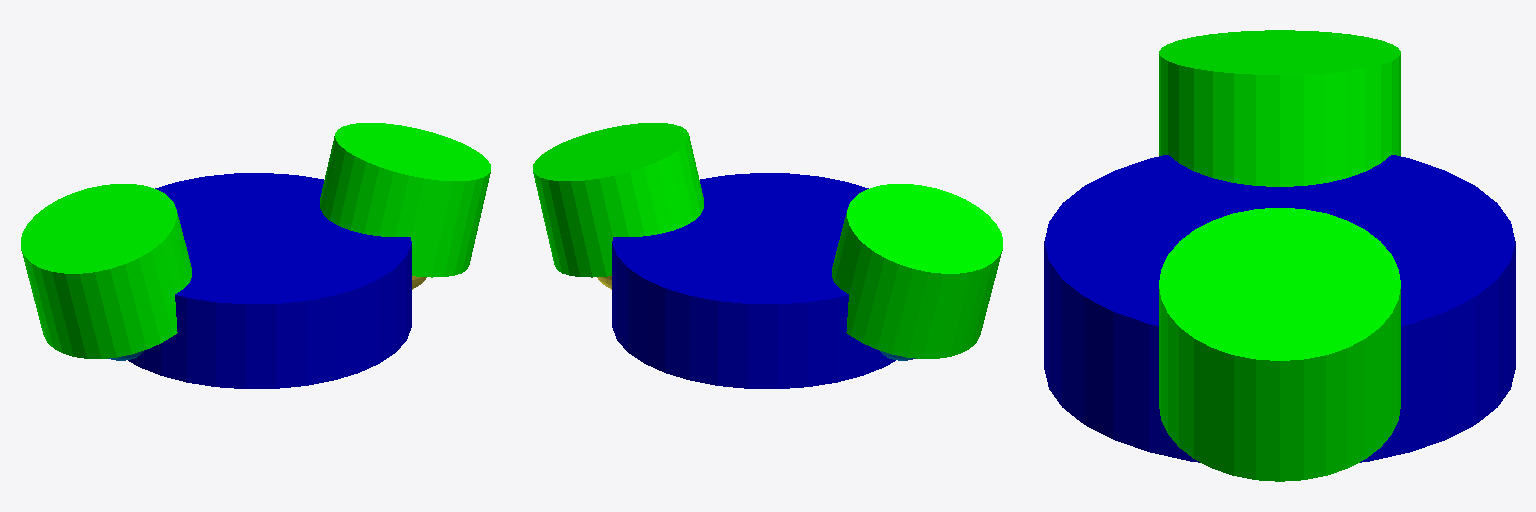
URDF robot description (gripper_2f_1j):
<?xml version='1.0' encoding='UTF-8'?>
<robot name="gripper_2f_1j">
  <link name="palm">
    <inertial>
      <origin xyz="0.0 0.0 0.0" rpy="0.0 -0.0 0.0"/>
      <mass value="1.0"/>
      <inertia ixx="1.0" ixy="0.0" ixz="0.0" iyy="1.0" iyz="0.0" izz="1.0"/>
    </inertial>
    <visual>
      <geometry>
        <cylinder radius="0.05" length="0.03"/>
      </geometry>
      <material name="blue"/>
      <origin xyz="0.0 0.0 0.0" rpy="0.0 -0.0 0.0"/>
    </visual>
    <collision>
      <geometry>
        <cylinder radius="0.05" length="0.03"/>
      </geometry>
      <origin xyz="0.0 0.0 0.0" rpy="0.0 0.0 0.0"/>
    </collision>
  </link>
  <link name="f11">
    <inertial>
      <origin xyz="0.0 0.0 0.0" rpy="0.0 -0.0 0.0"/>
      <mass value="1.0"/>
      <inertia ixx="1.0" ixy="0.0" ixz="0.0" iyy="1.0" iyz="0.0" izz="1.0"/>
    </inertial>
    <visual>
      <geometry>
        <cylinder radius="0.025724522488754467" length="0.03310900714851261"/>
      </geometry>
      <material name="green"/>
      <origin xyz="0.0 0.0 0.016554503574256304" rpy="0.0 -0.0 0.0"/>
    </visual>
    <collision>
      <geometry>
        <cylinder radius="0.025724522488754467" length="0.03310900714851261"/>
      </geometry>
      <origin xyz="0.0 0.0 0.05" rpy="0.0 0.0 0.0"/>
    </collision>
  </link>
  <link name="f21">
    <inertial>
      <origin xyz="0.0 0.0 0.0" rpy="0.0 -0.0 0.0"/>
      <mass value="1.0"/>
      <inertia ixx="1.0" ixy="0.0" ixz="0.0" iyy="1.0" iyz="0.0" izz="1.0"/>
    </inertial>
    <visual>
      <geometry>
        <cylinder radius="0.025724522488754467" length="0.03310900714851261"/>
      </geometry>
      <material name="green"/>
      <origin xyz="0.0 0.0 0.016554503574256304" rpy="0.0 -0.0 0.0"/>
    </visual>
    <collision>
      <geometry>
        <cylinder radius="0.025724522488754467" length="0.03310900714851261"/>
      </geometry>
      <origin xyz="0.0 0.0 0.05" rpy="0.0 0.0 0.0"/>
    </collision>
  </link>
  <link name="f11_base">
    <inertial>
      <origin xyz="0.0 0.0 0.0" rpy="0.0 -0.0 0.0"/>
      <mass value="1.0"/>
      <inertia ixx="1.0" ixy="0.0" ixz="0.0" iyy="1.0" iyz="0.0" izz="1.0"/>
    </inertial>
    <visual>
      <geometry>
        <sphere radius="0.015"/>
      </geometry>
      <origin xyz="0.0 0.0 0.0" rpy="0.0 -0.0 0.0"/>
    </visual>
  </link>
  <link name="f21_base">
    <inertial>
      <origin xyz="0.0 0.0 0.0" rpy="0.0 -0.0 0.0"/>
      <mass value="1.0"/>
      <inertia ixx="1.0" ixy="0.0" ixz="0.0" iyy="1.0" iyz="0.0" izz="1.0"/>
    </inertial>
    <visual>
      <geometry>
        <sphere radius="0.015"/>
      </geometry>
      <origin xyz="0.0 0.0 0.0" rpy="0.0 -0.0 0.0"/>
    </visual>
  </link>
  <joint name="f11_joint" type="revolute">
    <dynamics damping="100.0" friction="1.0"/>
    <limit effort="30.0" velocity="2.0" lower="-0.6" upper="0.25"/>
    <parent link="f11_base"/>
    <child link="f11"/>
    <axis xyz="0. 1. 0."/>
    <origin xyz="0.0 0.0 0.0" rpy="0.0 0.25 0.0"/>
  </joint>
  <joint name="f21_joint" type="revolute">
    <dynamics damping="100.0" friction="1.0"/>
    <limit effort="30.0" velocity="2.0" lower="-0.6" upper="0.25"/>
    <parent link="f21_base"/>
    <child link="f21"/>
    <axis xyz=" 0. -1.  0."/>
    <origin xyz="0.0 0.0 0.0" rpy="0.0 -0.25 0.0"/>
  </joint>
  <joint name="f11_base_joint" type="fixed">
    <parent link="palm"/>
    <child link="f11_base"/>
    <axis xyz="1. 0. 0."/>
    <origin xyz="0.05 0.0 0.0" rpy="0.0 0.0 0.0"/>
  </joint>
  <joint name="f21_base_joint" type="fixed">
    <parent link="palm"/>
    <child link="f21_base"/>
    <axis xyz="1. 0. 0."/>
    <origin xyz="-0.05 -0.0 0.0" rpy="0.0 0.0 0.0"/>
  </joint>
  <material name="blue">
    <color rgba="0.  0.  0.8 1. "/>
  </material>
  <material name="green">
    <color rgba="0. 1. 0. 1."/>
  </material>
</robot>

--- Facts derived from the render (not from the file) ---
The picture shows the robot from 3 angles, left to right: view 1: azimuth 30°, elevation 25°; view 2: azimuth 150°, elevation 25°; view 3: azimuth 270°, elevation 25°; orthographic projection.
Model gripper_2f_1j with 5 links and 4 joints (2 revolute, 2 fixed), rooted at palm, posed all joints at 0.
Links seen in each view (by area): view 1: palm, f21, f11; view 2: palm, f21, f11; view 3: palm, f11, f21.
Link boxes in pixels (<box>): palm: <box>128,173,411,388</box>; f21: <box>21,184,191,358</box>; f11: <box>320,123,490,277</box>; palm: <box>612,173,895,388</box>; f21: <box>832,184,1002,358</box>; f11: <box>533,123,703,277</box>; palm: <box>1044,155,1515,462</box>; f11: <box>1159,208,1400,481</box>; f21: <box>1159,30,1400,186</box>.
Bounding box of the posed robot: 0.1662 × 0.1 × 0.0534 m (x, y, z).
Geometry: primitives only (box / cylinder / sphere), no mesh files.